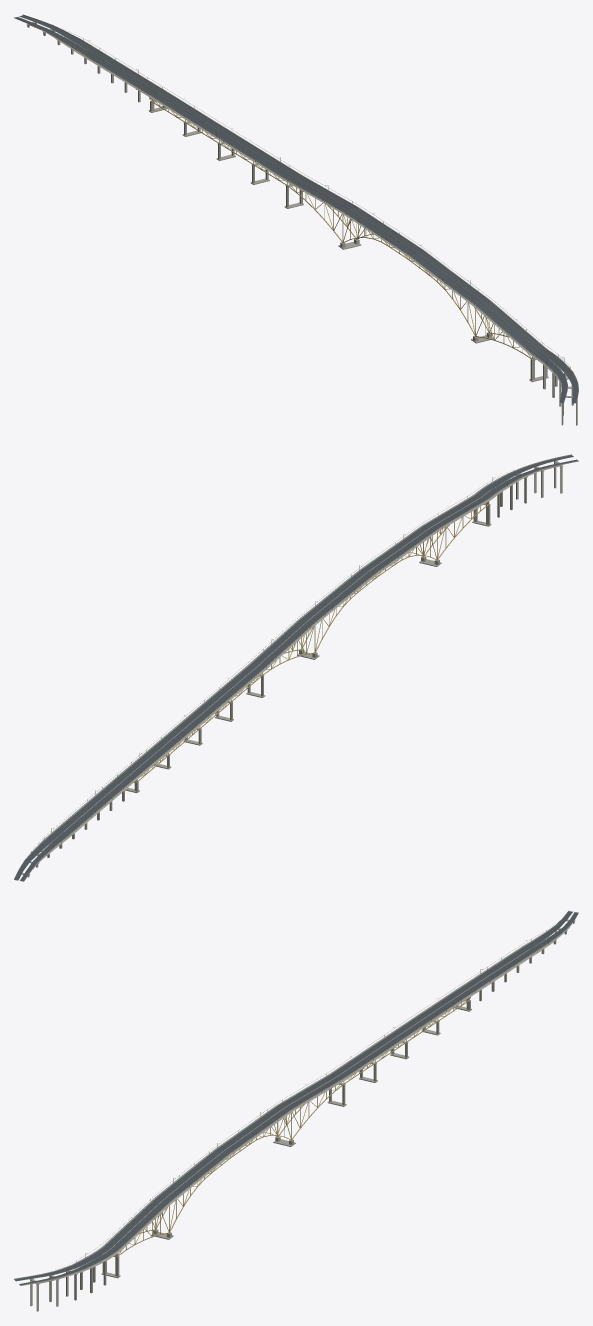
Rendered from ironworkers-memorial-bridge-far.glb.
The picture shows the model from 3 angles, top to bottom: view 1: azimuth 30°, elevation 25°; view 2: azimuth 150°, elevation 25°; view 3: azimuth 330°, elevation 25°; orthographic projection. The views are drawn at different scales.
Parts seen in each view (by area): view 1: ironworkers-memorial-bridge-0-asphalt, ironworkers-memorial-bridge-0-concrete, ironworkers-memorial-bridge-0-barrier, ironworkers-memorial-bridge-0-steel, ironworkers-memorial-bridge-0-rail; view 2: ironworkers-memorial-bridge-0-asphalt, ironworkers-memorial-bridge-0-concrete, ironworkers-memorial-bridge-0-barrier, ironworkers-memorial-bridge-0-steel, ironworkers-memorial-bridge-0-rail; view 3: ironworkers-memorial-bridge-0-asphalt, ironworkers-memorial-bridge-0-concrete, ironworkers-memorial-bridge-0-barrier, ironworkers-memorial-bridge-0-steel, ironworkers-memorial-bridge-0-rail.
Boxes of the visible parts, x1,y1,x2,y2 form: ironworkers-memorial-bridge-0-asphalt: (15, 15, 578, 403); ironworkers-memorial-bridge-0-concrete: (14, 18, 578, 425); ironworkers-memorial-bridge-0-barrier: (14, 14, 578, 401); ironworkers-memorial-bridge-0-steel: (150, 98, 532, 359); ironworkers-memorial-bridge-0-rail: (35, 24, 575, 376); ironworkers-memorial-bridge-0-asphalt: (14, 455, 577, 881); ironworkers-memorial-bridge-0-concrete: (21, 460, 578, 879); ironworkers-memorial-bridge-0-barrier: (14, 454, 578, 880); ironworkers-memorial-bridge-0-steel: (136, 502, 489, 782); ironworkers-memorial-bridge-0-rail: (31, 470, 526, 862); ironworkers-memorial-bridge-0-asphalt: (14, 911, 577, 1285); ironworkers-memorial-bridge-0-concrete: (21, 915, 577, 1311); ironworkers-memorial-bridge-0-barrier: (14, 910, 578, 1285); ironworkers-memorial-bridge-0-steel: (117, 998, 470, 1256); ironworkers-memorial-bridge-0-rail: (59, 925, 568, 1268).
Bounding box in the file's own units: 73.73 × 63.98 × 1462.
